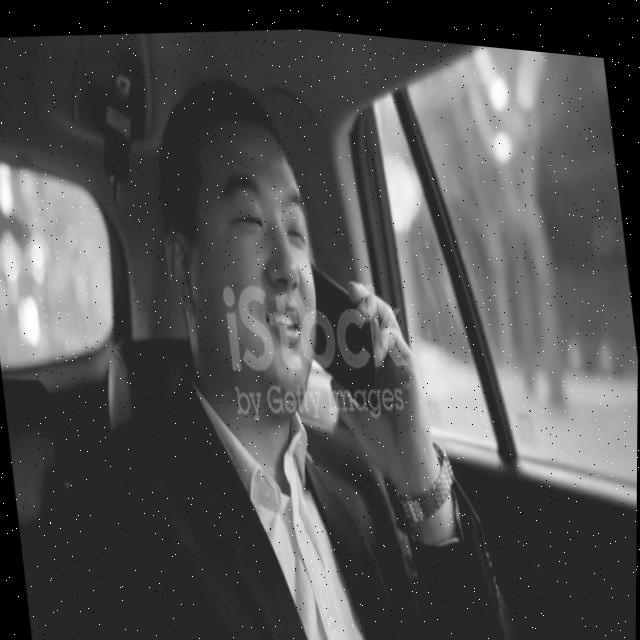PhoneCall: (307, 256, 388, 411)
